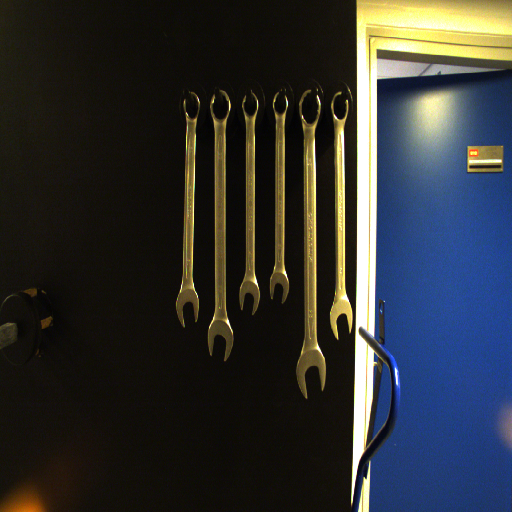bottom: (295, 348, 330, 400), (206, 317, 236, 363), (326, 297, 355, 340), (173, 290, 203, 329), (235, 278, 263, 315), (266, 272, 292, 305)
top: (297, 88, 324, 129), (207, 90, 233, 124), (178, 89, 203, 122), (267, 90, 292, 119), (330, 89, 350, 124), (239, 90, 262, 120)
